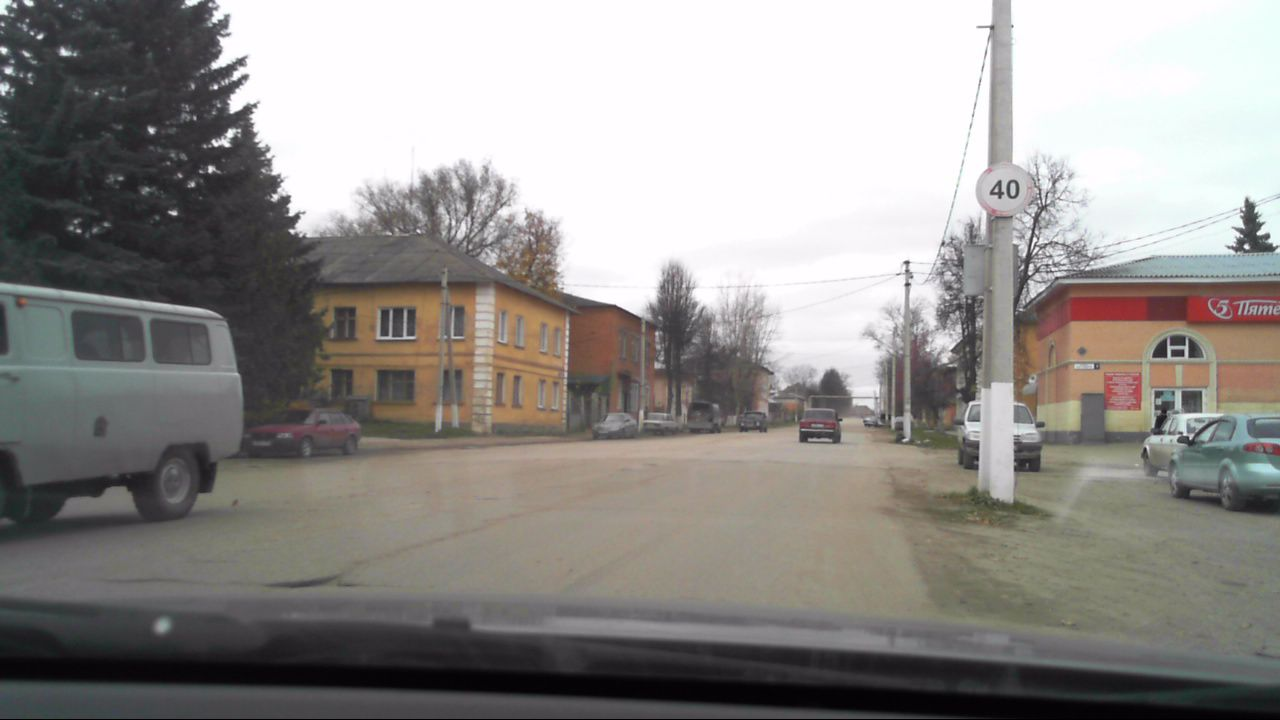speed_warning_40: (975, 162, 1035, 217)
